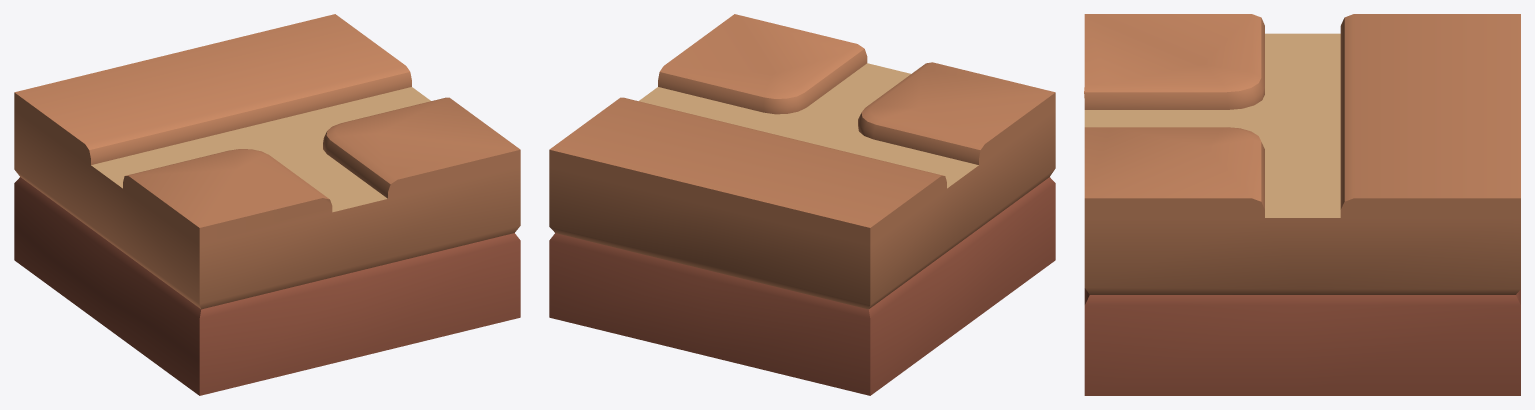
File: square_rock_roadD_detail.glb
The picture shows the model from 3 angles, left to right: view 1: azimuth 30°, elevation 25°; view 2: azimuth 150°, elevation 25°; view 3: azimuth 270°, elevation 25°; orthographic projection. The views are drawn at different scales.
Parts seen in each view (by area): view 1: square_rock_roadD_detail; view 2: square_rock_roadD_detail; view 3: square_rock_roadD_detail.
Boxes of the visible parts, left/top/right/bottom form: square_rock_roadD_detail: left=14, top=14, right=520, bottom=395; square_rock_roadD_detail: left=549, top=14, right=1055, bottom=395; square_rock_roadD_detail: left=1084, top=14, right=1520, bottom=395.
Size of the model in its own units: 3.82 by 1.91 by 3.82.
